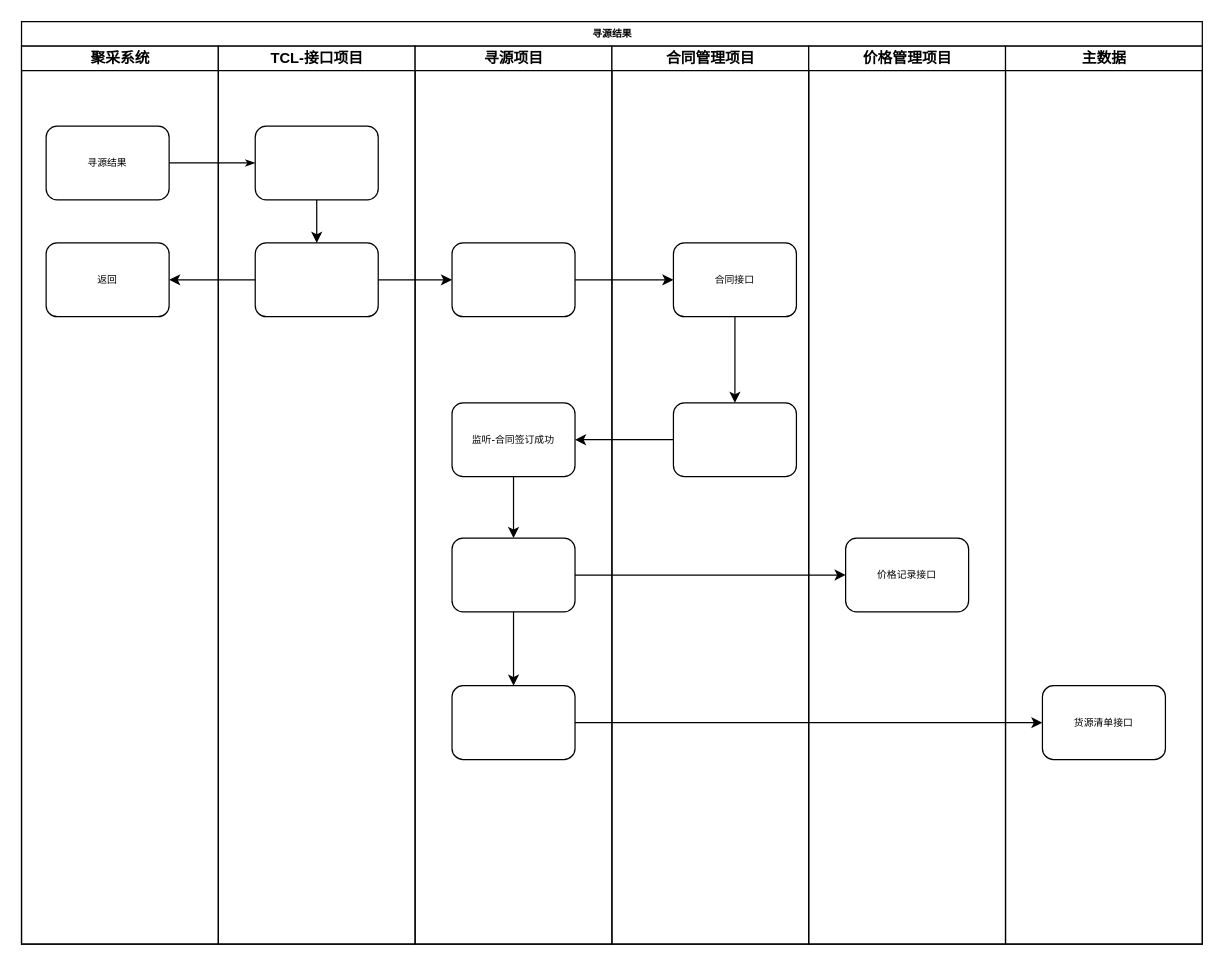
Image size: 1224x966. Some labels were removed from this diagram. Here are the shapes that lost their labels. From the top down, the centre of each, then its label:
At (316,162): "接收寻源结果".
At (316,279): "创建定点数据".
At (513,279): "定点接口".
At (734,439): "MQ".
At (513,574): "创建价格".
At (513,722): "生成货源清单".
